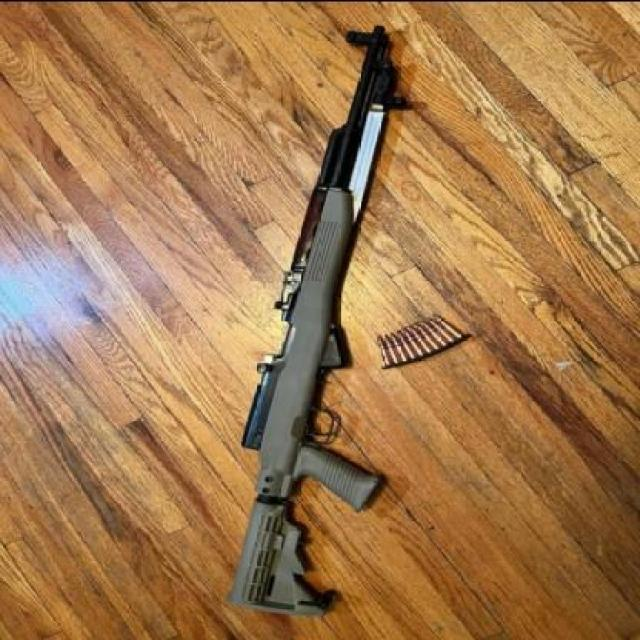weapon: (225, 22, 408, 616)
